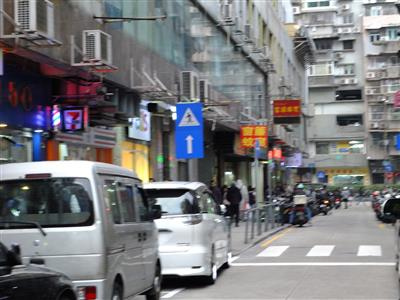oneway: (172, 127, 206, 160)
pedestrianCrossing: (173, 100, 205, 129)
